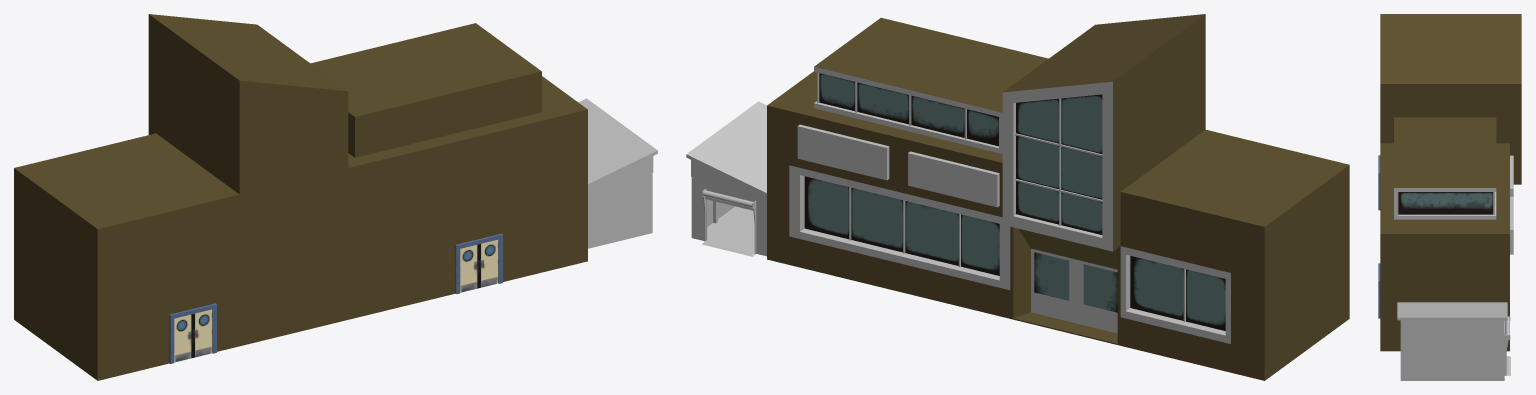
The model's file is PETE_Buildings.fbx.
The picture shows the model from 3 angles, left to right: view 1: azimuth 30°, elevation 25°; view 2: azimuth 150°, elevation 25°; view 3: azimuth 270°, elevation 25°; orthographic projection. The views are drawn at different scales.
Visible parts, largest first — view 1: PETE_Building, PETE_Shed; view 2: PETE_Building, PETE_Shed; view 3: PETE_Building, PETE_Shed.
Part boxes in pixels (left/top/right/bottom): PETE_Building: left=14, top=14, right=587, bottom=380; PETE_Shed: left=578, top=98, right=657, bottom=248; PETE_Building: left=767, top=14, right=1349, bottom=380; PETE_Shed: left=686, top=101, right=766, bottom=256; PETE_Building: left=1378, top=14, right=1521, bottom=351; PETE_Shed: left=1397, top=302, right=1510, bottom=380.
Bounding box in the file's own units: 2954 × 1314 × 827.
